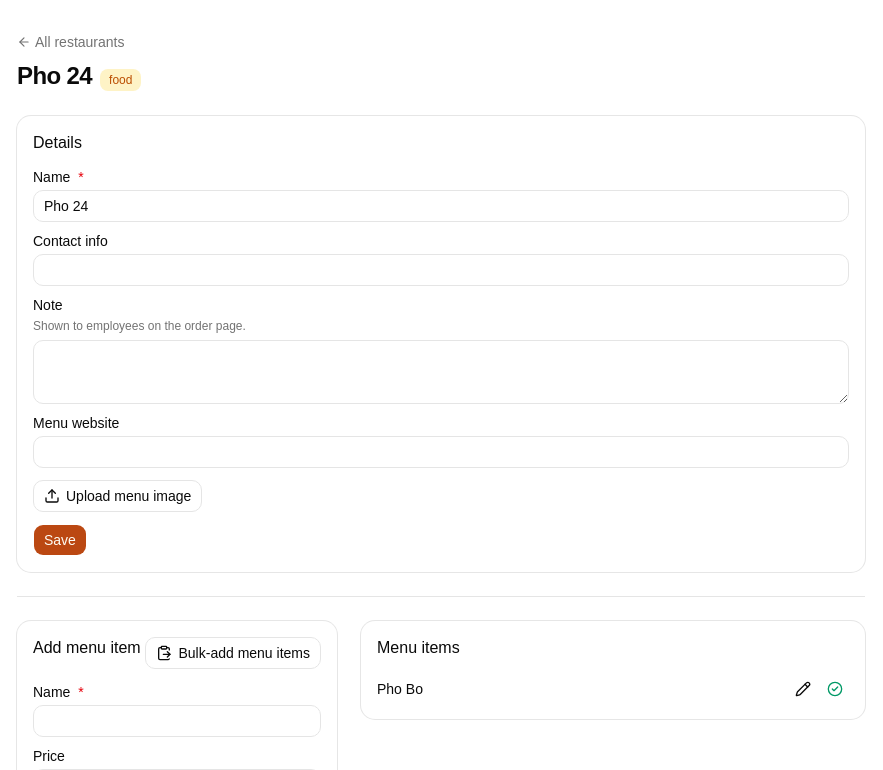
RestaurantDetail › shows a fallback error toast when toggling a menu item's active state fails with a network error
Expected: the text "Pho Bo" is shown, [377,679,423,699]
Click the button named "Deactivate". click: (835, 689)
box: [821,675,849,703]
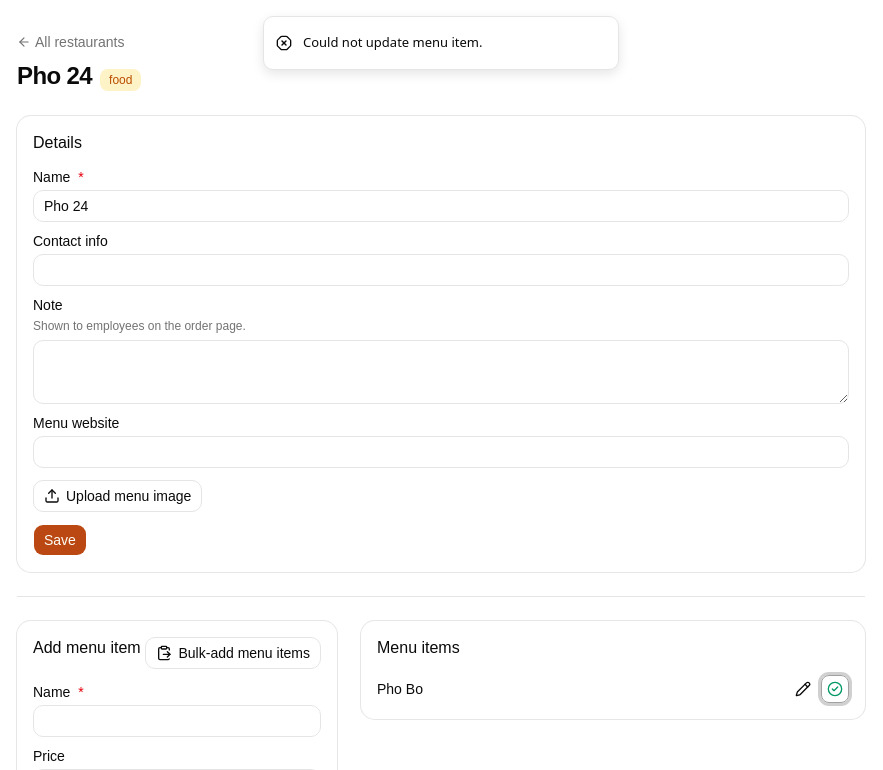
Now the text "Could not update menu item." is shown, box [303,33,482,52]
